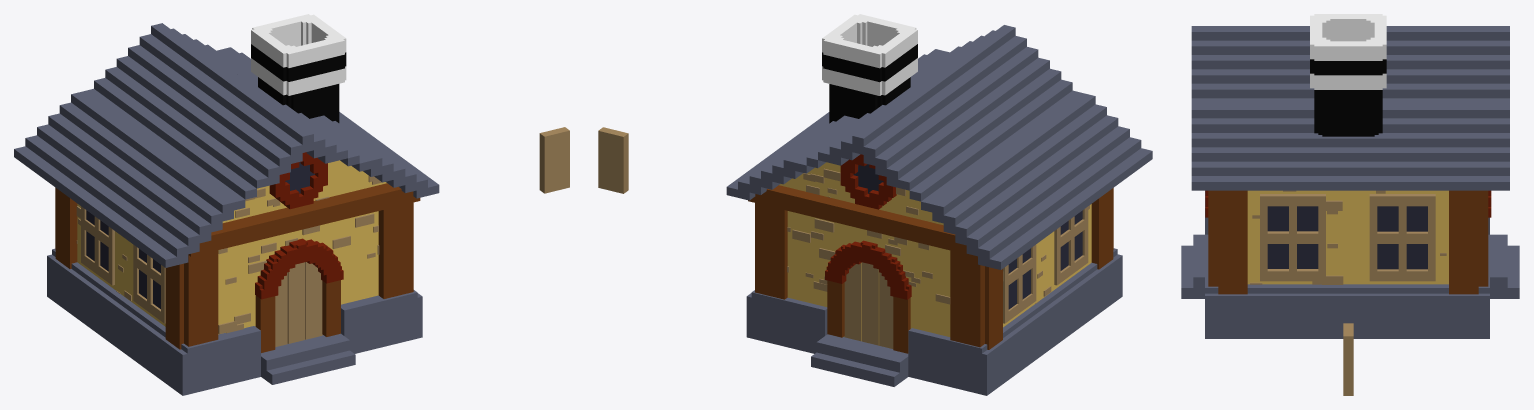
Rendered from Жилой дом (1).fbx.
The picture shows the model from 3 angles, left to right: view 1: azimuth 30°, elevation 25°; view 2: azimuth 150°, elevation 25°; view 3: azimuth 270°, elevation 25°; orthographic projection. The views are drawn at different scales.
Visible parts, largest first — view 1: Cube, Cube.002, Cube.010, Cube.003, Cube.008, Cube.001, Cube.005, Cylinder.001, Cylinder, Cube.004, Cube.007, Cube.009 (+1 smaller); view 2: Cube, Cube.002, Cube.010, Cube.003, Cube.008, Cube.001, Cube.005, Cylinder.001, Cube.006, Cube.007, Cube.004, Cylinder (+1 smaller); view 3: Cube, Cube.002, Cube.008, Cube.003, Cube.010, Cube.007, Cube.006, Cube.009.
Boxes of the visible parts, x1,y1,x2,y2 form: Cube: (14, 23, 439, 267); Cube.002: (47, 248, 422, 395); Cube.010: (77, 161, 386, 334); Cube.003: (55, 187, 413, 349); Cube.008: (251, 14, 346, 122); Cube.001: (188, 183, 420, 256); Cube.005: (275, 262, 322, 346); Cylinder.001: (255, 238, 343, 299); Cylinder: (269, 152, 327, 209); Cube.004: (255, 280, 340, 352); Cube.007: (81, 206, 114, 285); Cube.009: (539, 127, 569, 193); Cube: (726, 25, 1152, 269); Cube.002: (746, 248, 1122, 395); Cube.010: (785, 162, 1091, 345); Cube.003: (755, 188, 1113, 349); Cube.008: (822, 14, 917, 123); Cube.001: (748, 185, 977, 256); Cube.005: (844, 262, 893, 348); Cylinder.001: (825, 240, 911, 299); Cube.006: (1054, 206, 1088, 285); Cube.007: (1003, 244, 1036, 323); Cube.004: (827, 280, 910, 353); Cylinder: (840, 154, 896, 209); Cube: (1191, 26, 1509, 190); Cube.002: (1181, 191, 1519, 338); Cube.008: (1310, 14, 1386, 136); Cube.003: (1208, 190, 1488, 294); Cube.010: (1247, 190, 1448, 284); Cube.007: (1369, 194, 1435, 281); Cube.006: (1260, 194, 1325, 281); Cube.009: (1343, 323, 1353, 395).
Bounding box in the file's own units: 655 × 351 × 384.
